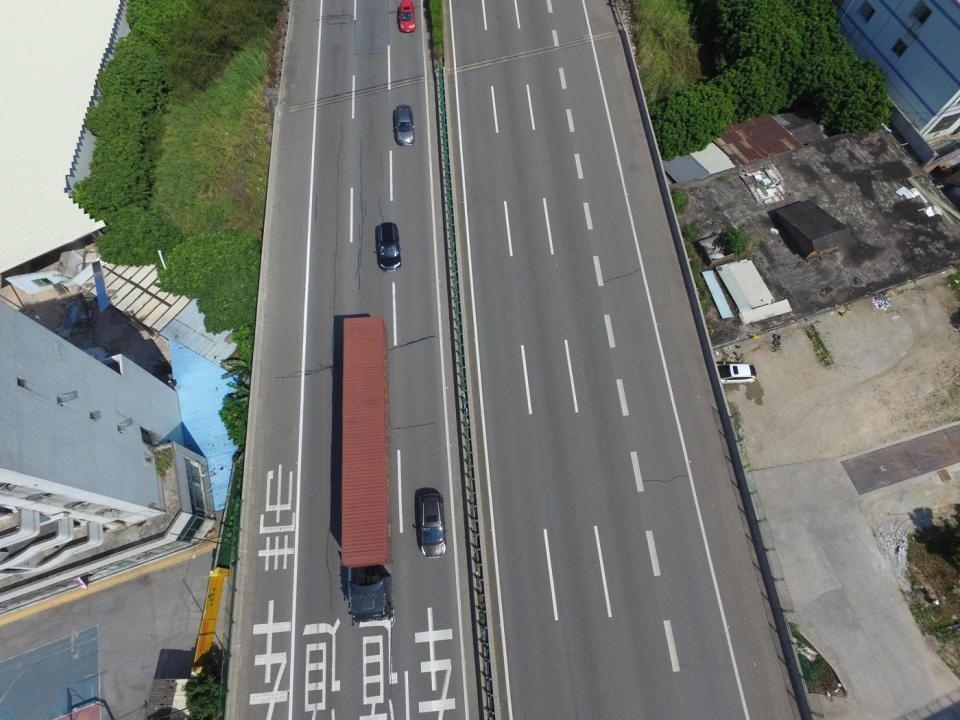car: (416, 492, 444, 557), (374, 221, 402, 275), (707, 362, 756, 385), (391, 104, 416, 146), (397, 0, 417, 33)
truck: (337, 316, 394, 622)
